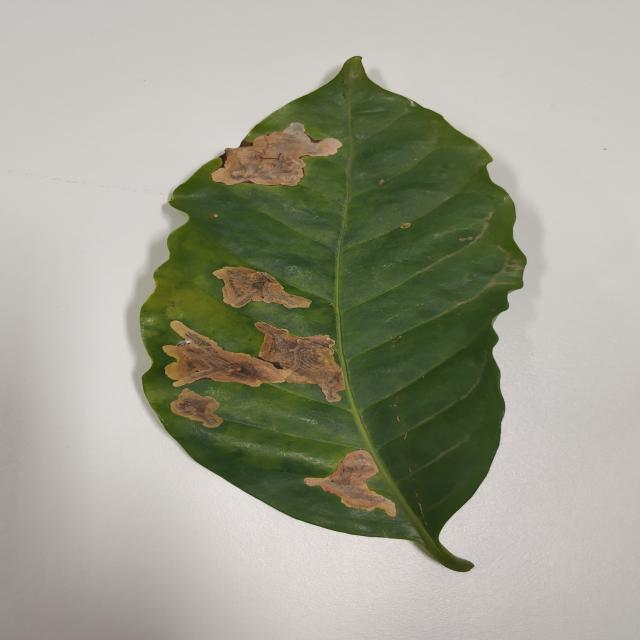Plaga-Minador: (129, 56, 527, 575)
